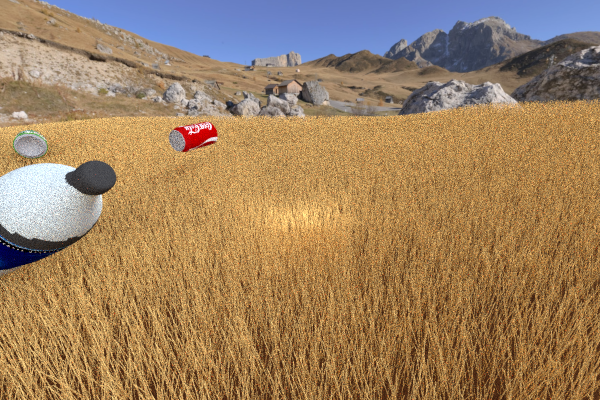Plastic Bottle: (0, 160, 116, 282), (168, 121, 217, 152), (12, 130, 47, 158)
